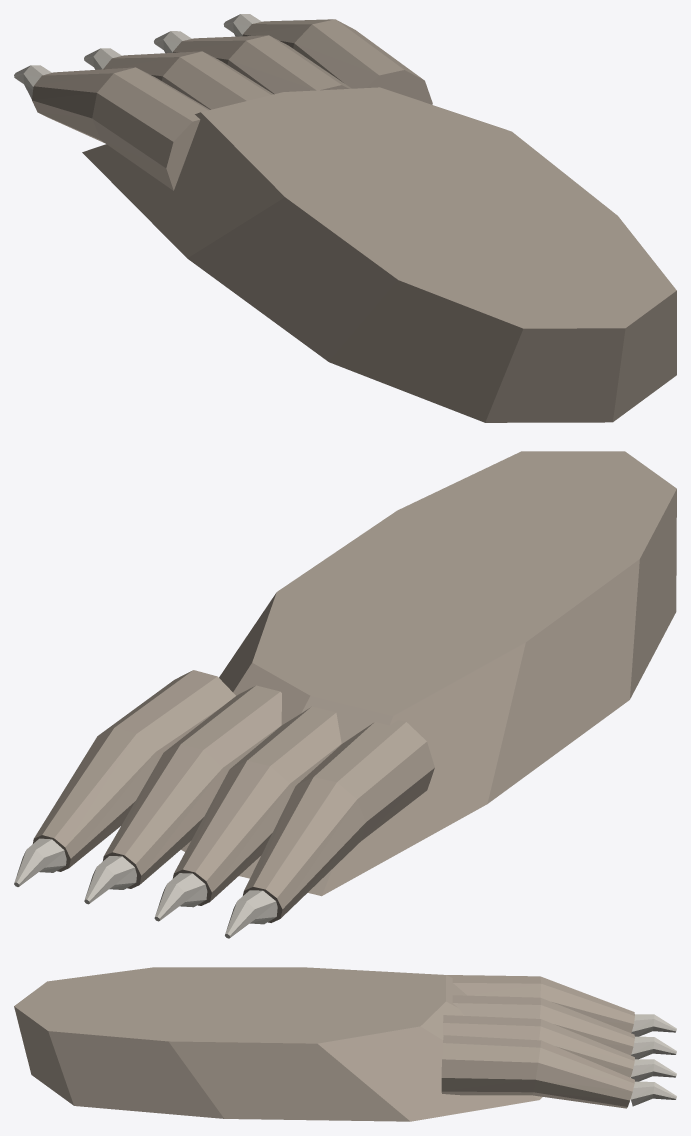
Rendered from rabbit_foot_hr_01.glb.
3 views of the same model, one above another, from view 1: azimuth 30°, elevation 25°; view 2: azimuth 150°, elevation 25°; view 3: azimuth 270°, elevation 25° (orthographic). The views are drawn at different scales.
Parts seen in each view (by area): view 1: HindRPalm, HindRToe0, HindRToe3, HindRToe2, HindRToe1; view 2: HindRPalm, HindRToe0, HindRToe3, HindRToe2, HindRToe1, HindRClaw0, HindRClaw1, HindRClaw2, HindRClaw3; view 3: HindRPalm, HindRToe3, HindRToe2, HindRToe1, HindRToe0, HindRClaw3, HindRClaw2, HindRClaw1, HindRClaw0.
Part boxes in pixels (x1,y1,x2,y2): HindRPalm: (82,87,676,422); HindRToe0: (32,67,209,190); HindRToe3: (242,19,432,104); HindRToe2: (173,35,351,94); HindRToe1: (103,51,273,109); HindRPalm: (181,451,676,896); HindRToe0: (243,720,434,922); HindRToe3: (33,670,235,871); HindRToe2: (102,685,281,888); HindRToe1: (172,706,341,905); HindRClaw0: (225,890,277,938); HindRClaw1: (154,873,207,921); HindRClaw2: (84,856,136,904); HindRClaw3: (14,838,66,886); HindRPalm: (14,967,542,1121); HindRToe3: (441,1035,634,1108); HindRToe2: (443,1015,634,1077); HindRToe1: (452,995,634,1055); HindRToe0: (446,975,634,1033); HindRClaw3: (630,1081,676,1106); HindRClaw2: (631,1059,676,1081); HindRClaw1: (631,1036,676,1059); HindRClaw0: (631,1014,676,1036).
Size of the model in its own units: 0.1046 by 0.035 by 0.3069.
